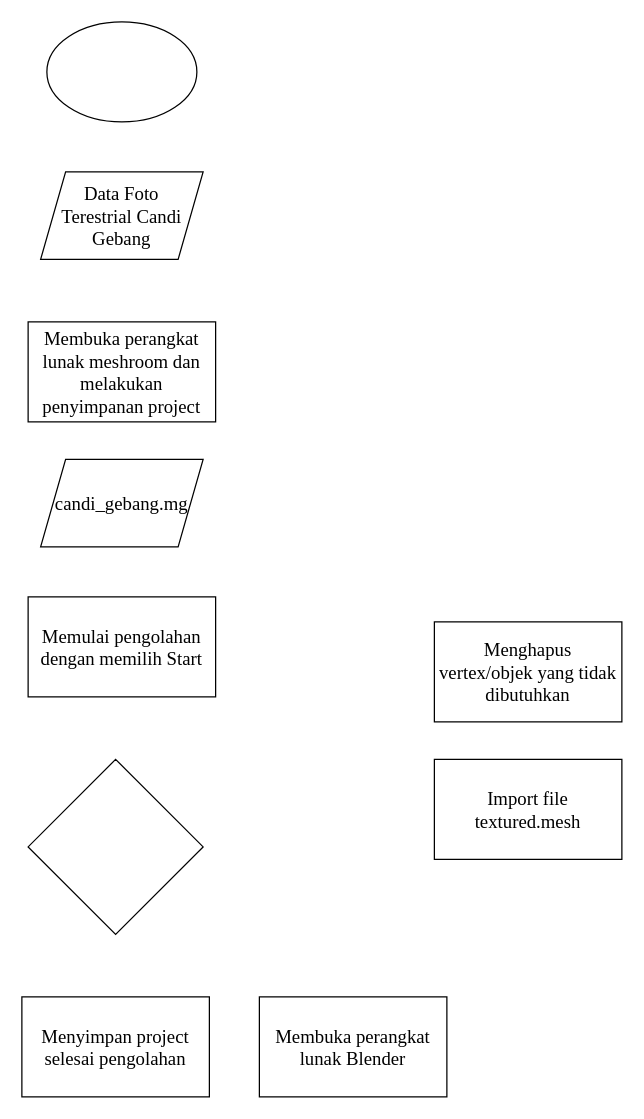
Image size: 644x1119. Some labels were removed from this diagram. The centre of each missing label's shape, as x and y in pixels:
"Indikator pengolahan success berwarna hijau" goes at point 115,846.
"Mulai" goes at point 121,71.
